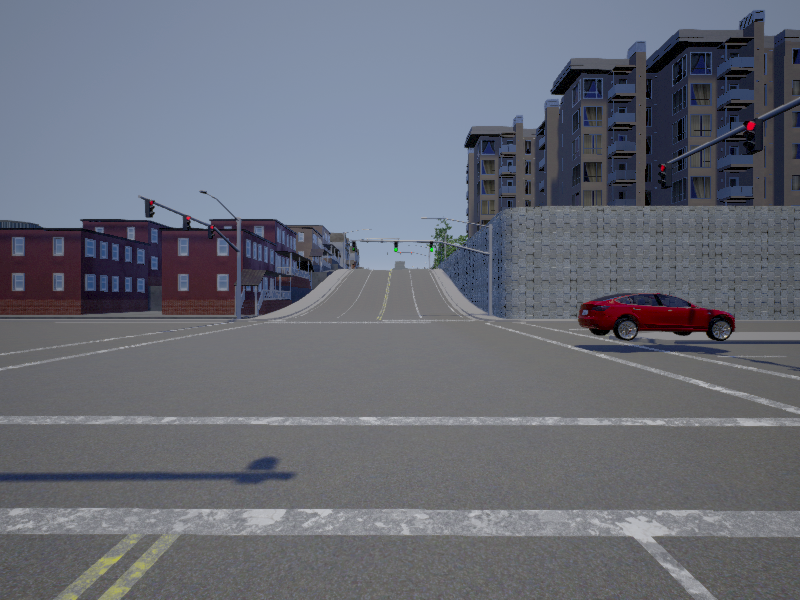Attacker: (582, 292, 736, 342)
